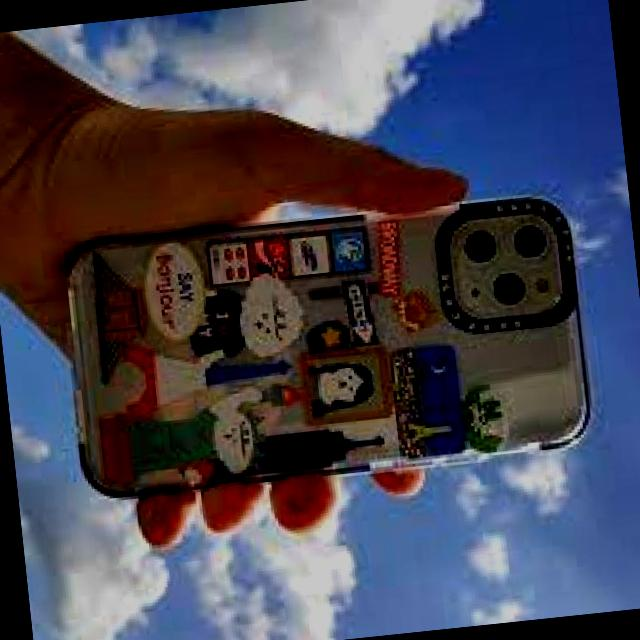lens_back: (482, 268, 536, 314), (454, 225, 500, 268), (508, 220, 551, 263)
phone: (49, 178, 600, 509)
